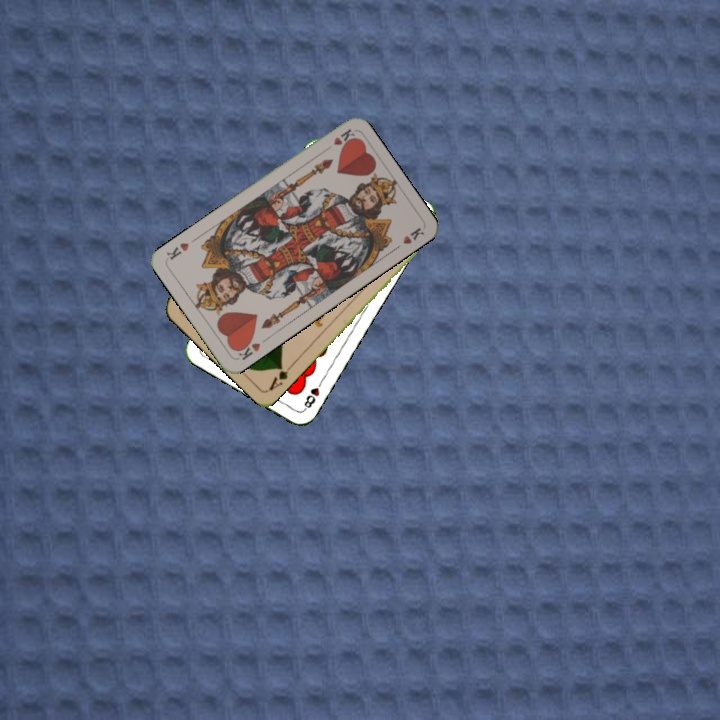GA: (264, 359, 296, 393)
H8: (300, 376, 326, 413)
HK: (319, 125, 357, 155), (231, 335, 263, 363)
